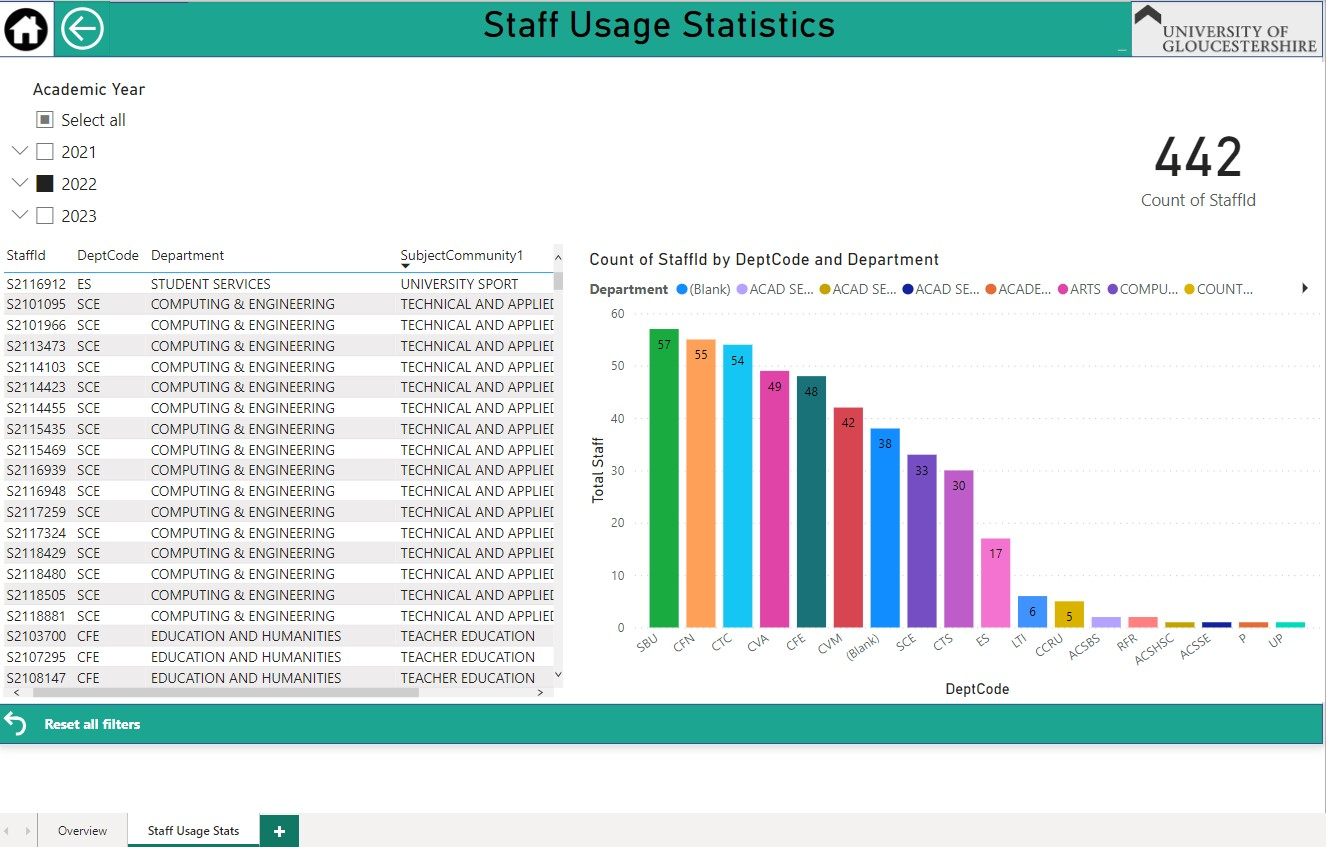

The page's visual inventory and layout, read from the dashboard file:
{"tool":"powerbi","page":{"name":"Staff Usage Stats","canvas":[1280,720],"ordinal":1},"visuals":[{"type":"actionButton","box":[0,98.4,55,55.9],"z":0},{"type":"actionButton","box":[0,681,140.8,32.8],"z":1000},{"type":"textbox","title":"Staff Usage Statistics","box":[183.3,1.9,909.6,52.1],"z":2000},{"type":"actionButton","box":[55.4,1,53,53],"z":3000},{"type":"slicer","title":"Academic Year","fields":{"Values":["Staff_Usage_Statistics.Date.Variation.Date Hierarchy.Year","Staff_Usage_Statistics.Date.Variation.Date Hierarchy.Quarter","Staff_Usage_Statistics.Date.Variation.Date Hierarchy.Month","Staff_Usage_Statistics.Date.Variation.Date Hierarchy.Day"]},"box":[0,75.2,183.3,172.7],"z":5000},{"type":"tableEx","fields":{"Values":["Staff_Usage_Statistics.StaffId","Staff_Usage_Statistics.DeptCode","Staff_Usage_Statistics.Department","Staff_Usage_Statistics.SubjectCommunity1"]},"box":[0,230.5,549.8,446.6],"z":6000},{"type":"columnChart","fields":{"Category":["Staff_Usage_Statistics.DeptCode"],"Y":["Count(Staff_Usage_Statistics.StaffId)"],"Series":["Staff_Usage_Statistics.Department"]},"box":[565.2,239.2,714.8,437.9],"z":7000},{"type":"card","fields":{"Values":["Count(Staff_Usage_Statistics.StaffId)"]},"box":[1036,59.8,244,189.1],"z":8000}]}

Visuals, with their boxes on the page's 1280x720 design canvas (x1, y1, x2, y2). These are canvas units, not pixel positions in the 1326x847 screenshot, which may show the page scaled, cropped or inside an application window:
actionButton: x1=0 y1=98 x2=55 y2=154
actionButton: x1=0 y1=681 x2=141 y2=714
"Staff Usage Statistics" textbox: x1=183 y1=2 x2=1093 y2=54
actionButton: x1=55 y1=1 x2=108 y2=54
"Academic Year" slicer: x1=0 y1=75 x2=183 y2=248
tableEx - Staff_Usage_Statistics.StaffId x Staff_Usage_Statistics.DeptCode: x1=0 y1=230 x2=550 y2=677
columnChart - Staff_Usage_Statistics.DeptCode x Count(Staff_Usage_Statistics.StaffId): x1=565 y1=239 x2=1280 y2=677
card - Count(Staff_Usage_Statistics.StaffId): x1=1036 y1=60 x2=1280 y2=249
